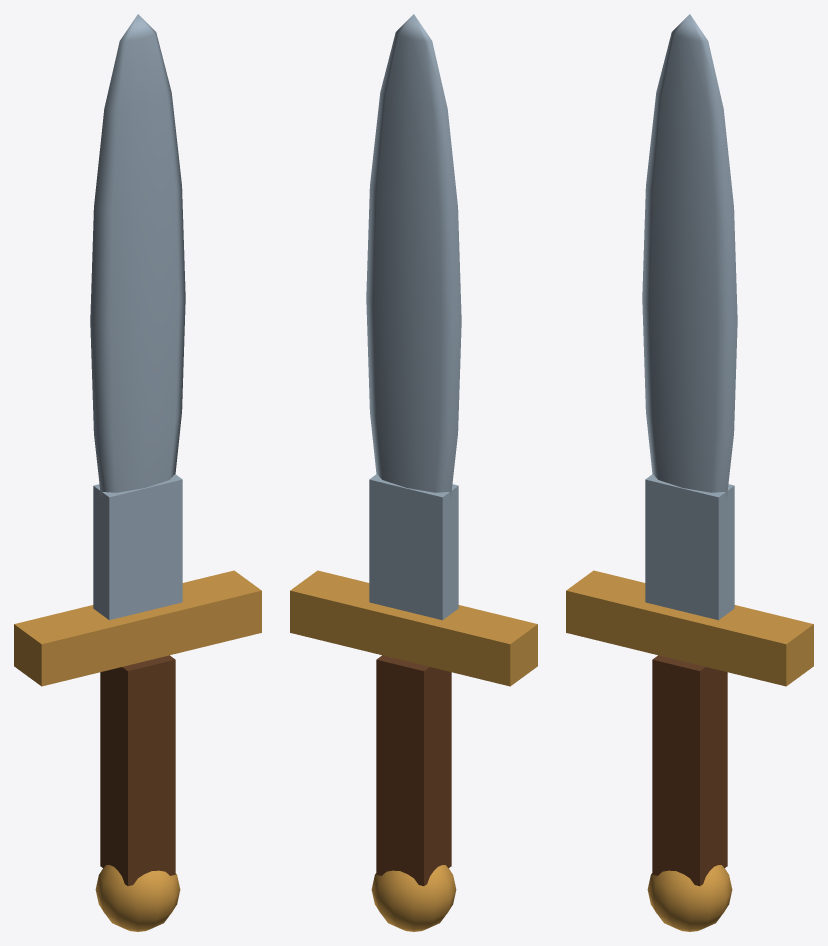
The model's file is oneHandSword.glb.
The picture shows the model from 3 angles, left to right: view 1: azimuth 30°, elevation 25°; view 2: azimuth 150°, elevation 25°; view 3: azimuth 330°, elevation 25°; orthographic projection.
Visible parts, largest first — view 1: Blade, Grip, Guard, BladeCore, Pommel; view 2: Blade, Grip, Guard, BladeCore, Pommel; view 3: Blade, Grip, Guard, BladeCore, Pommel.
Part boxes in pixels (<box>): Blade: <box>90,14,185,498</box>; Grip: <box>100,655,175,886</box>; Guard: <box>14,570,261,686</box>; BladeCore: <box>93,474,182,620</box>; Pommel: <box>95,865,180,931</box>; Blade: <box>366,14,461,498</box>; Grip: <box>376,655,451,886</box>; Guard: <box>290,570,537,686</box>; BladeCore: <box>369,474,458,620</box>; Pommel: <box>371,865,456,931</box>; Blade: <box>642,14,737,498</box>; Grip: <box>652,655,727,886</box>; Guard: <box>566,570,813,686</box>; BladeCore: <box>645,474,734,620</box>; Pommel: <box>647,865,732,931</box>.
Size of the model in its own units: 0.3 by 1.19 by 0.1.
